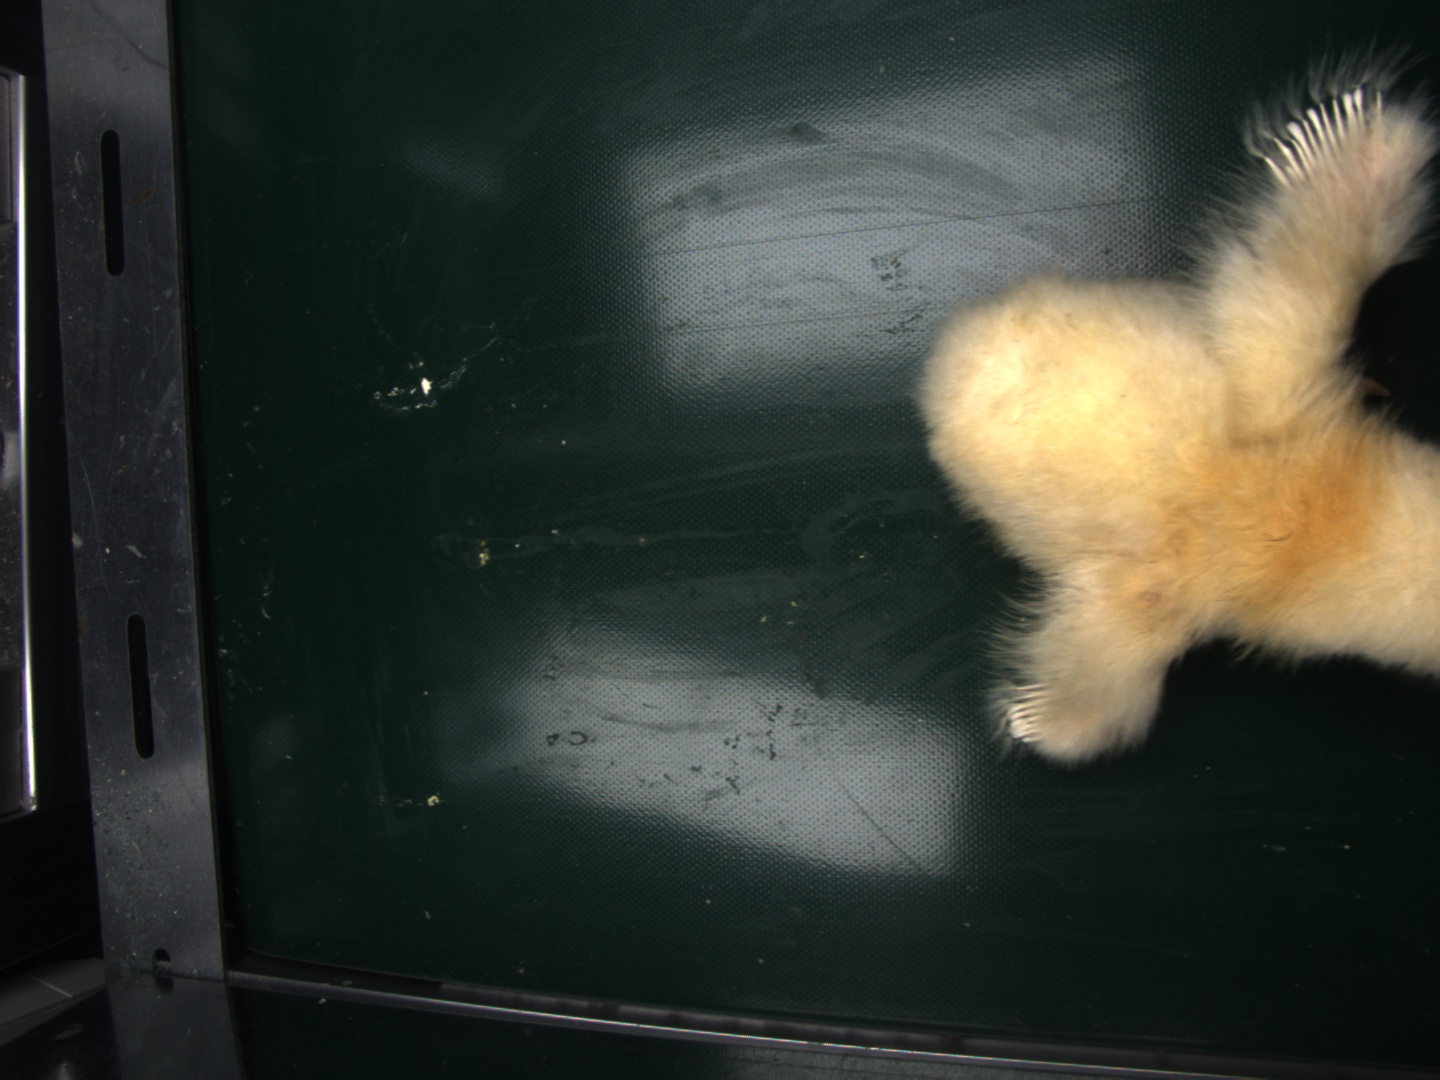male: (1267, 84, 1379, 189)
